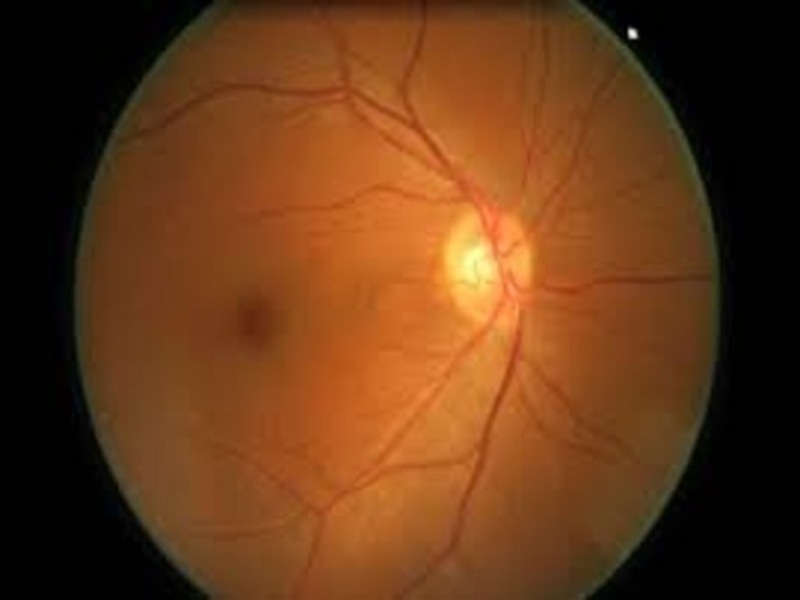Optic Cup: (461, 243, 493, 282)
Optic Disc: (436, 198, 532, 327)
